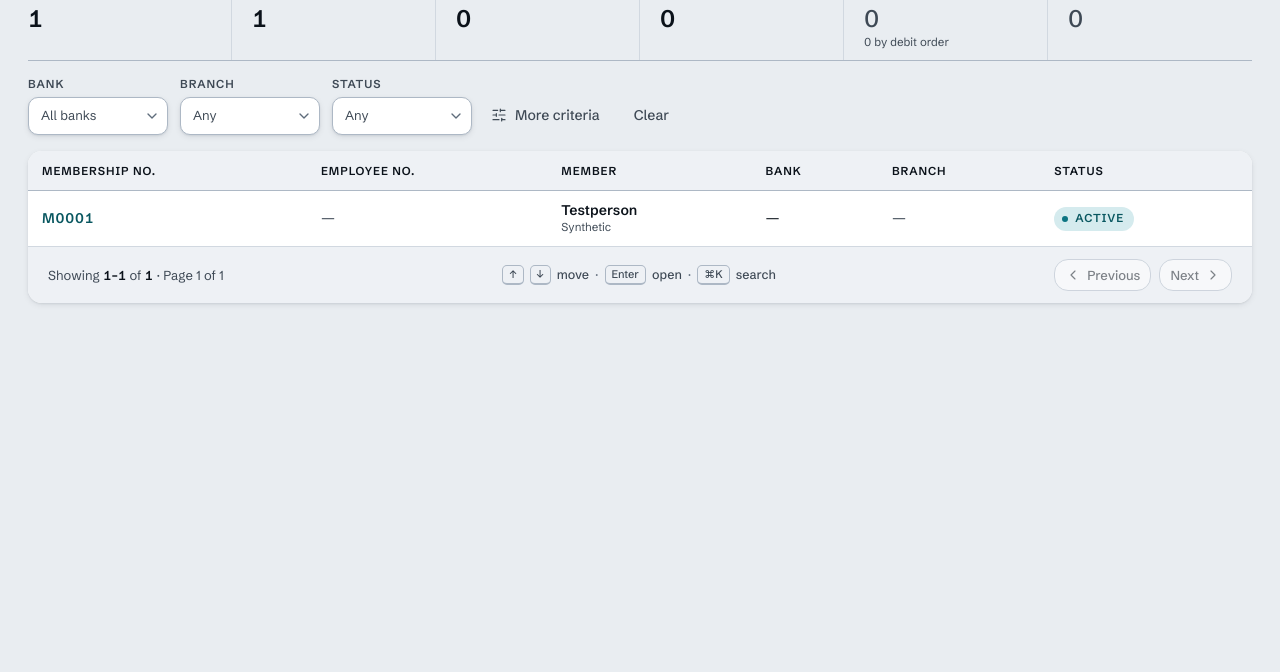
Test: editing: only the questions the stakeholder asked, nested as they said › leaves no control on the panel without an accessible name (BR-14, the class)
Click the button named "open the record for".
click(68, 218)  # box [42, 208, 94, 229]
(page scrolled)
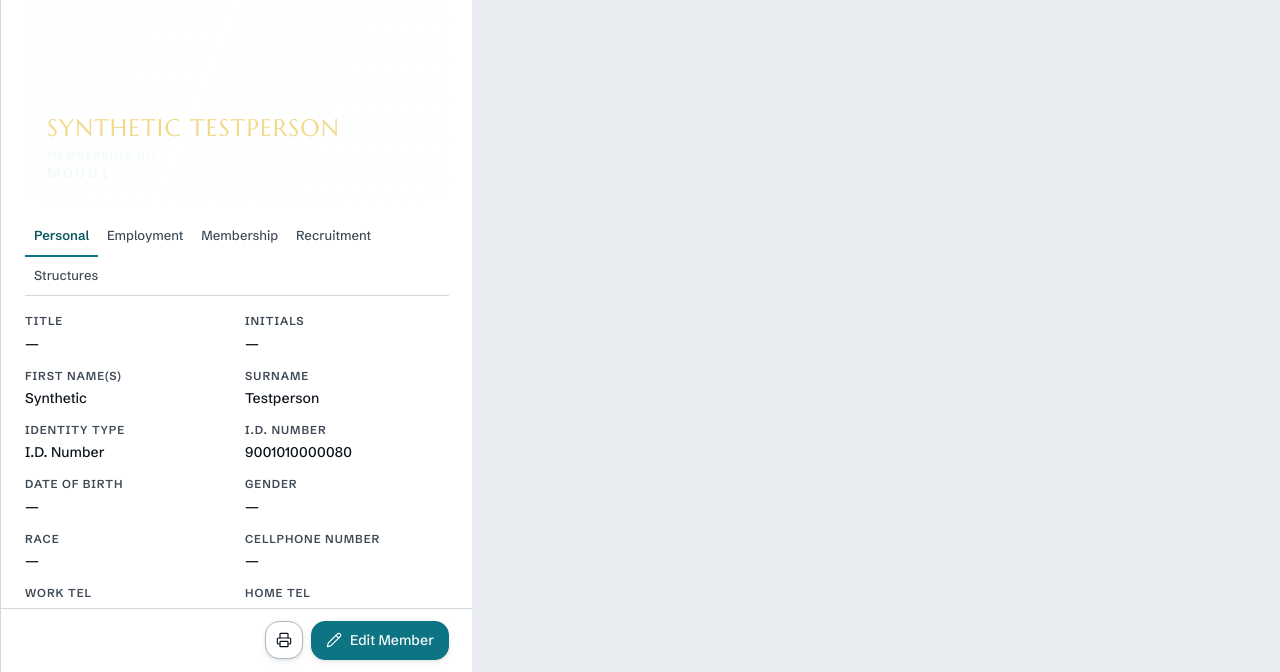
Click the button "Edit Member".
click(380, 640)  # box [311, 621, 449, 660]
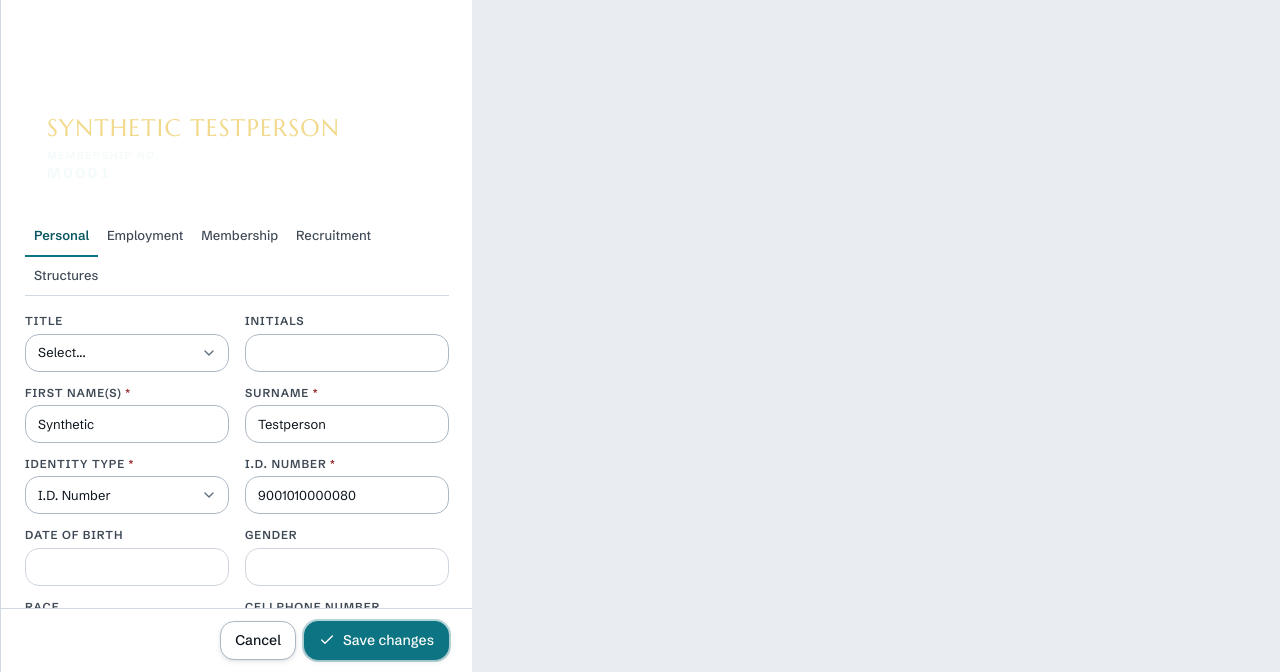
Click the button named "Sasbo Structures".
click(66, 277)  # box [25, 257, 107, 296]
(page scrolled)
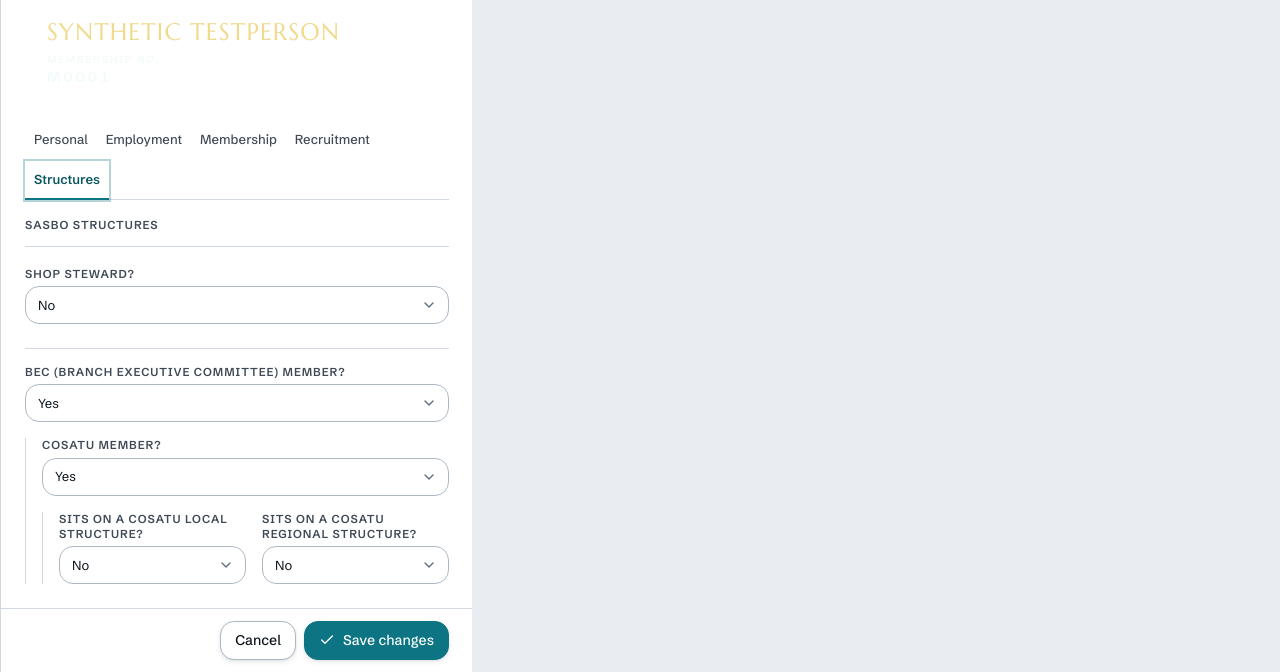
Expected: the dropdown labelled "Sits on a COSATU Local structure?" is shown, [59, 546, 246, 584]
